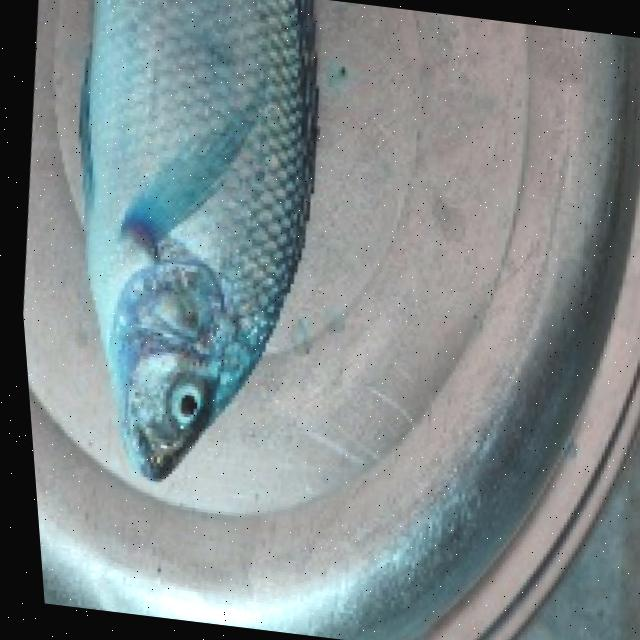Fresh: (0, 0, 358, 510)
